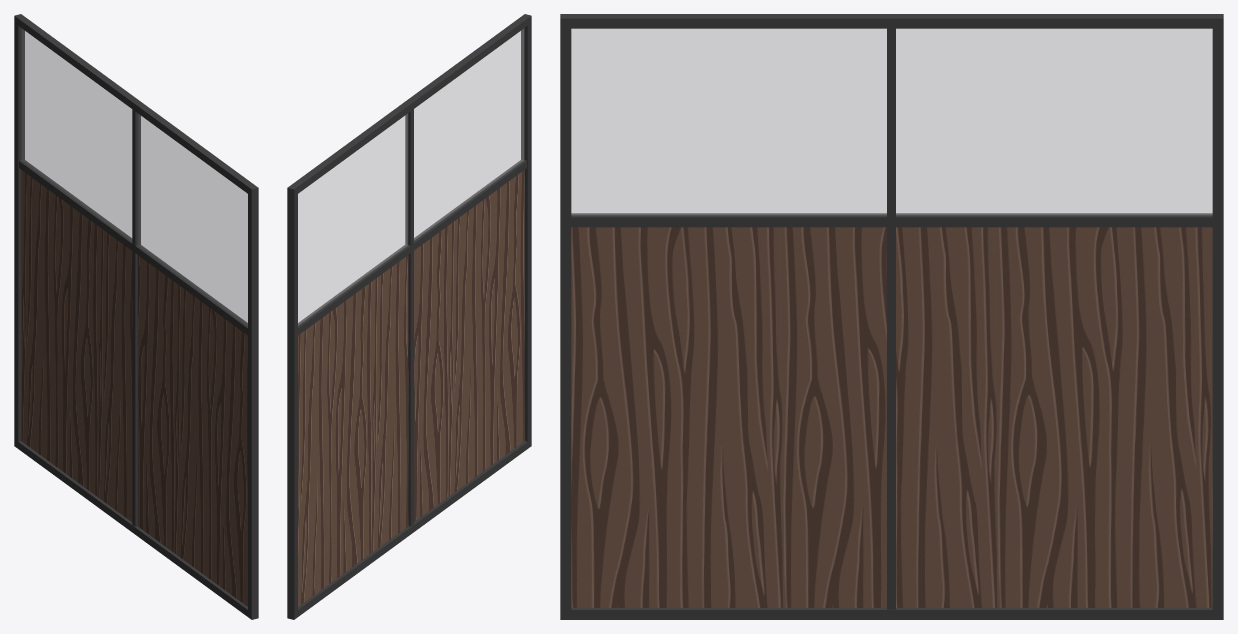
Rendered from Seperator02.fbx.
The picture shows the model from 3 angles, left to right: view 1: azimuth 30°, elevation 25°; view 2: azimuth 150°, elevation 25°; view 3: azimuth 270°, elevation 25°; orthographic projection. The views are drawn at different scales.
Parts seen in each view (by area): view 1: Seperator02; view 2: Seperator02; view 3: Seperator02.
Boxes of the visible parts, x1,y1,x2,y2 form: Seperator02: [14, 14, 258, 619]; Seperator02: [287, 14, 531, 619]; Seperator02: [560, 14, 1223, 619].
Bounding box in the file's own units: 0.0501 × 3 × 3.
